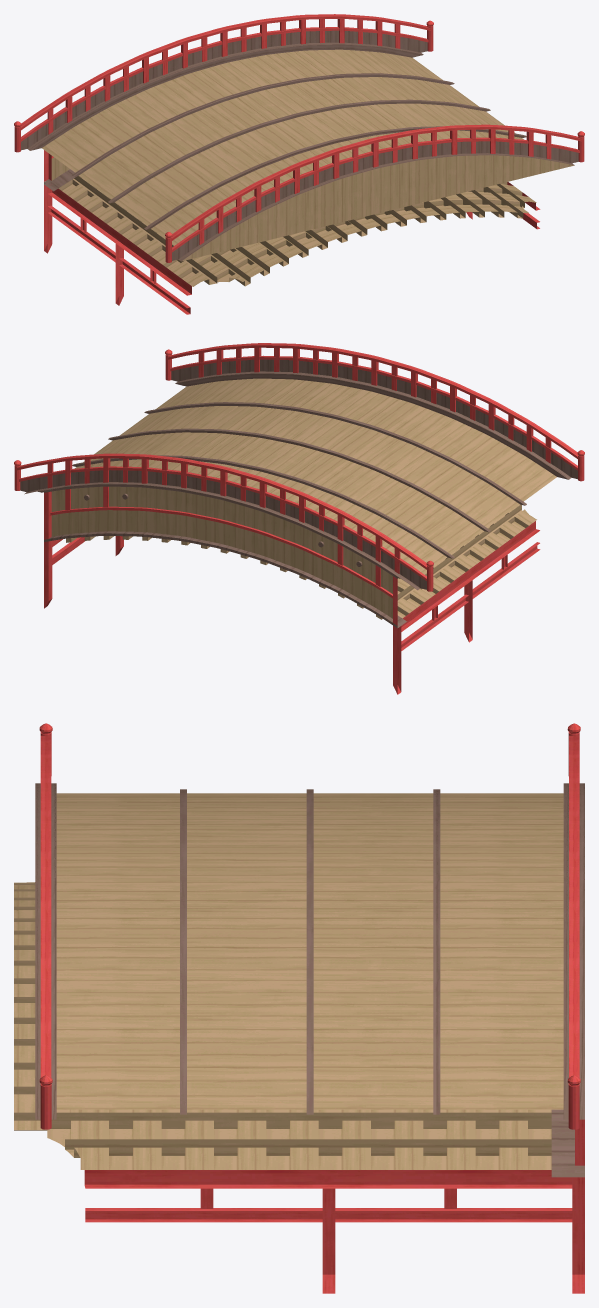
File: SM_ENV_KNVLLG_AreaH_Building_A_2.fbx
3 views of the same model, one above another, from view 1: azimuth 30°, elevation 25°; view 2: azimuth 150°, elevation 25°; view 3: azimuth 270°, elevation 25° (orthographic). The views are drawn at different scales.
Parts seen in each view (by area): view 1: SM_ENV_KNVLLG_AreaH_Building_A_2.mo; view 2: SM_ENV_KNVLLG_AreaH_Building_A_2.mo; view 3: SM_ENV_KNVLLG_AreaH_Building_A_2.mo.
Part boxes in pixels (<box>): SM_ENV_KNVLLG_AreaH_Building_A_2.mo: <box>14,14,584,314</box>; SM_ENV_KNVLLG_AreaH_Building_A_2.mo: <box>14,343,584,694</box>; SM_ENV_KNVLLG_AreaH_Building_A_2.mo: <box>14,723,584,1293</box>.
Bounding box in the file's own units: 3630 × 1504 × 2451.
